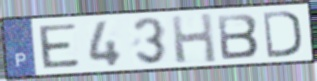3: (129, 15, 169, 67)
4: (86, 19, 124, 68)
B: (215, 12, 261, 61)
D: (261, 9, 304, 60)
E: (36, 22, 82, 70)
H: (168, 11, 219, 65)
